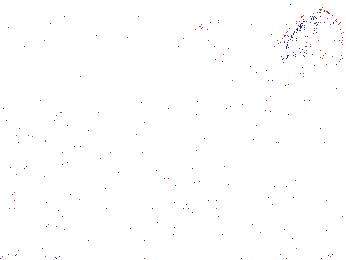moon jellyfish: (172, 21, 298, 109), (164, 111, 250, 206), (275, 8, 343, 86), (1, 124, 78, 192), (184, 7, 273, 40)
